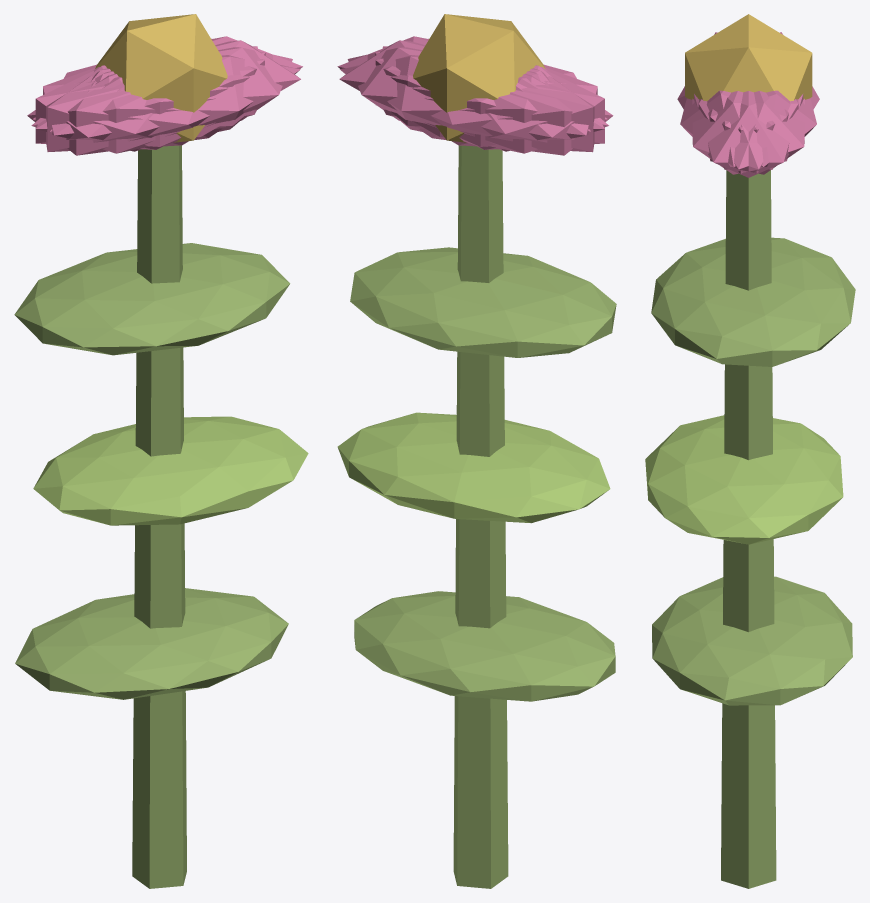
The model's file is alternanthera-denticulata.glb.
The picture shows the model from 3 angles, left to right: view 1: azimuth 30°, elevation 25°; view 2: azimuth 150°, elevation 25°; view 3: azimuth 270°, elevation 25°; orthographic projection.
Parts seen in each view (by area): view 1: stem, leaf2, leaf1, leaf0, center, petal1, petal6, petal2, petal5, petal7, petal0, petal4 (+2 smaller); view 2: stem, leaf2, leaf0, leaf1, center, petal8, petal3, petal7, petal4, petal2, petal0, petal5 (+2 smaller); view 3: stem, leaf2, leaf1, leaf0, center, petal0, petal5, petal4, petal8, petal1.
Boxes of the visible parts, x1,y1,x2,y2 form: stem: (132,145,186,888); leaf2: (14,243,290,355); leaf1: (33,416,308,525); leaf0: (15,588,288,699); center: (95,14,227,142); petal1: (31,55,300,153); petal6: (27,67,221,155); petal2: (46,46,257,151); petal5: (49,47,292,146); petal7: (35,52,265,149); petal0: (95,40,300,137); petal4: (33,36,302,129); stem: (453,145,508,888); leaf2: (350,247,616,357); leaf0: (354,591,615,701); leaf1: (337,412,610,523); center: (413,14,545,142); petal8: (340,55,608,153); petal3: (418,67,613,155); petal7: (382,46,594,152); petal4: (347,47,590,146); petal2: (375,52,604,149); petal0: (339,40,545,137); petal5: (337,36,607,129); stem: (721,170,776,888); leaf2: (651,237,855,366); leaf1: (645,415,843,544); leaf0: (652,576,852,705); center: (685,14,812,101); petal0: (694,91,803,177); petal5: (692,91,798,174); petal4: (698,91,804,174); petal8: (708,90,816,167); petal1: (680,90,788,167).
Size of the model in its own units: 0.1467 by 0.448 by 0.101.
